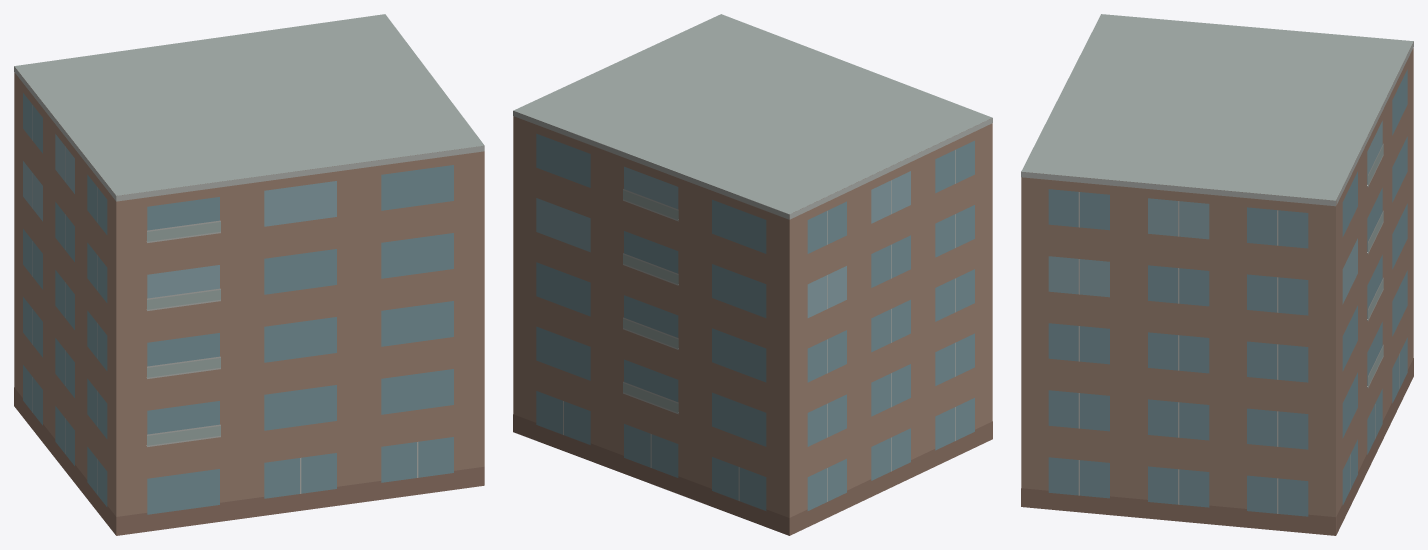
File: survey-upis-32862066.glb
3 views of the same model, side by side, from view 1: azimuth 30°, elevation 25°; view 2: azimuth 150°, elevation 25°; view 3: azimuth 270°, elevation 25° (orthographic). The views are drawn at different scales.
Visible parts, largest first — view 1: survey-upis-32862066.tmp; view 2: survey-upis-32862066.tmp; view 3: survey-upis-32862066.tmp.
Boxes of the visible parts, x1,y1,x2,y2 form: survey-upis-32862066.tmp: (14, 14, 484, 535); survey-upis-32862066.tmp: (513, 14, 992, 535); survey-upis-32862066.tmp: (1021, 14, 1413, 535).
Bounding box in the file's own units: 17.39 × 14.55 × 15.46.
